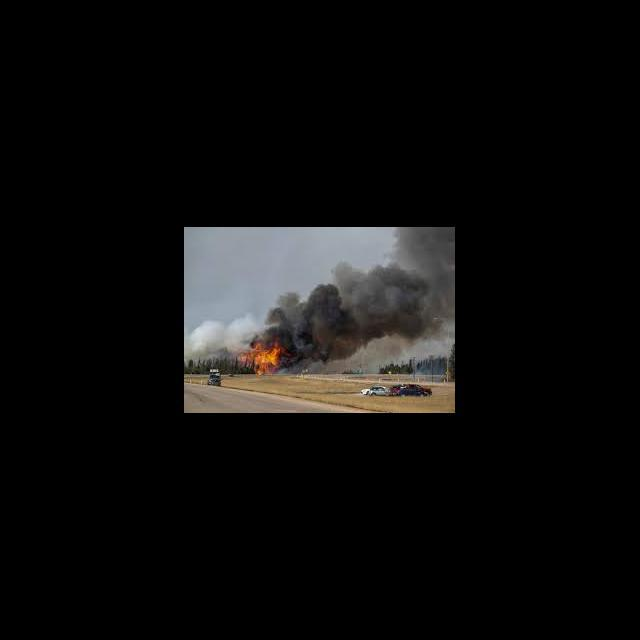Fire: (235, 328, 301, 377)
Smoke: (314, 230, 456, 364), (185, 320, 234, 361)
